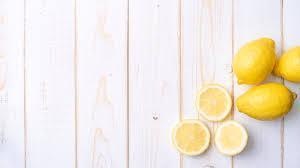lemon: (236, 82, 297, 120), (232, 38, 276, 86), (171, 118, 210, 156), (195, 84, 232, 122), (214, 120, 248, 156), (270, 46, 300, 82)
